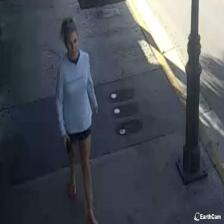person: (54, 16, 100, 224)
